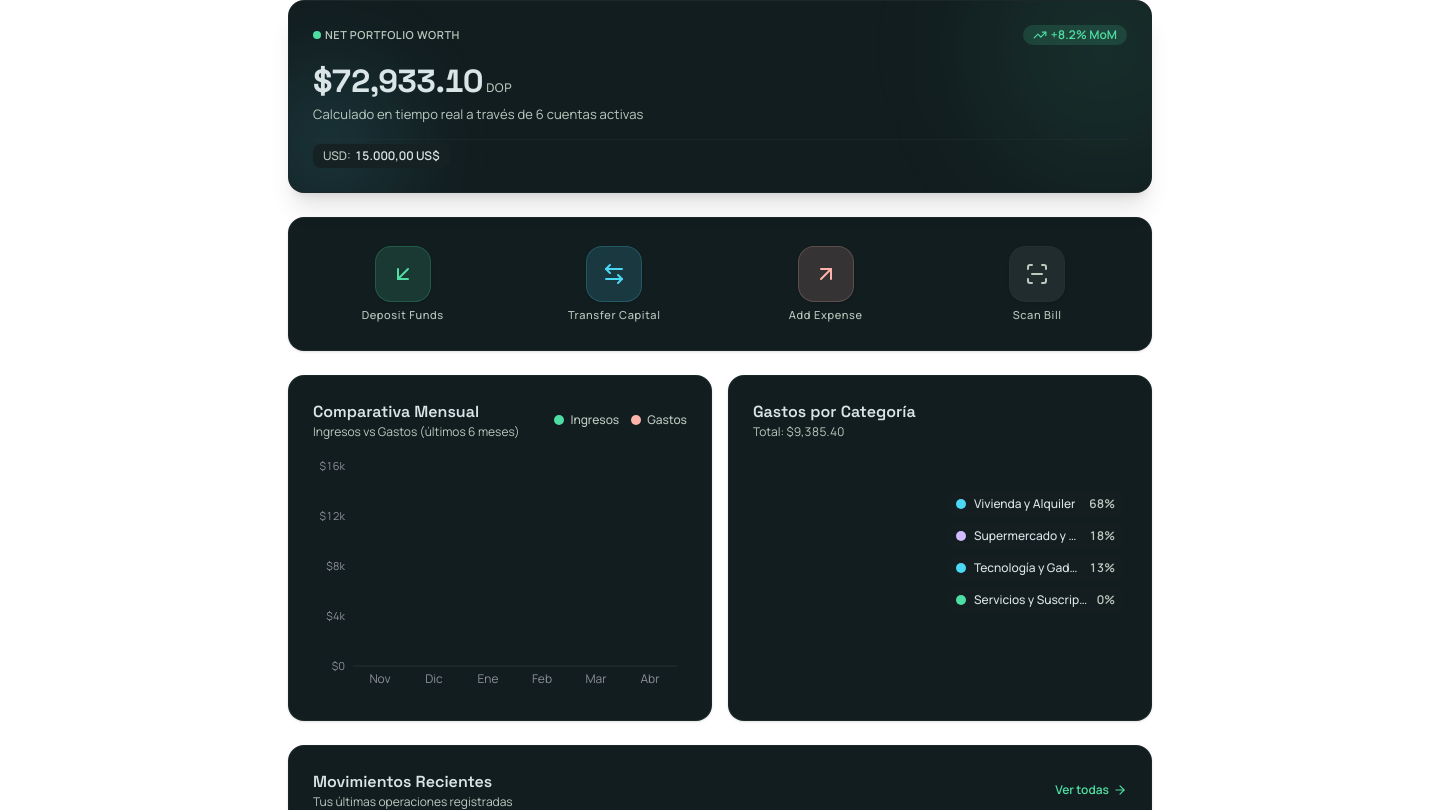
Test: DashboardPage Integration › opens TransactionFormModal when clicking Add Expense quick action
The width and height of the screenshot is (1440, 810).
Click the button "Add Expense" at (826, 284), box [728,242,924,326]
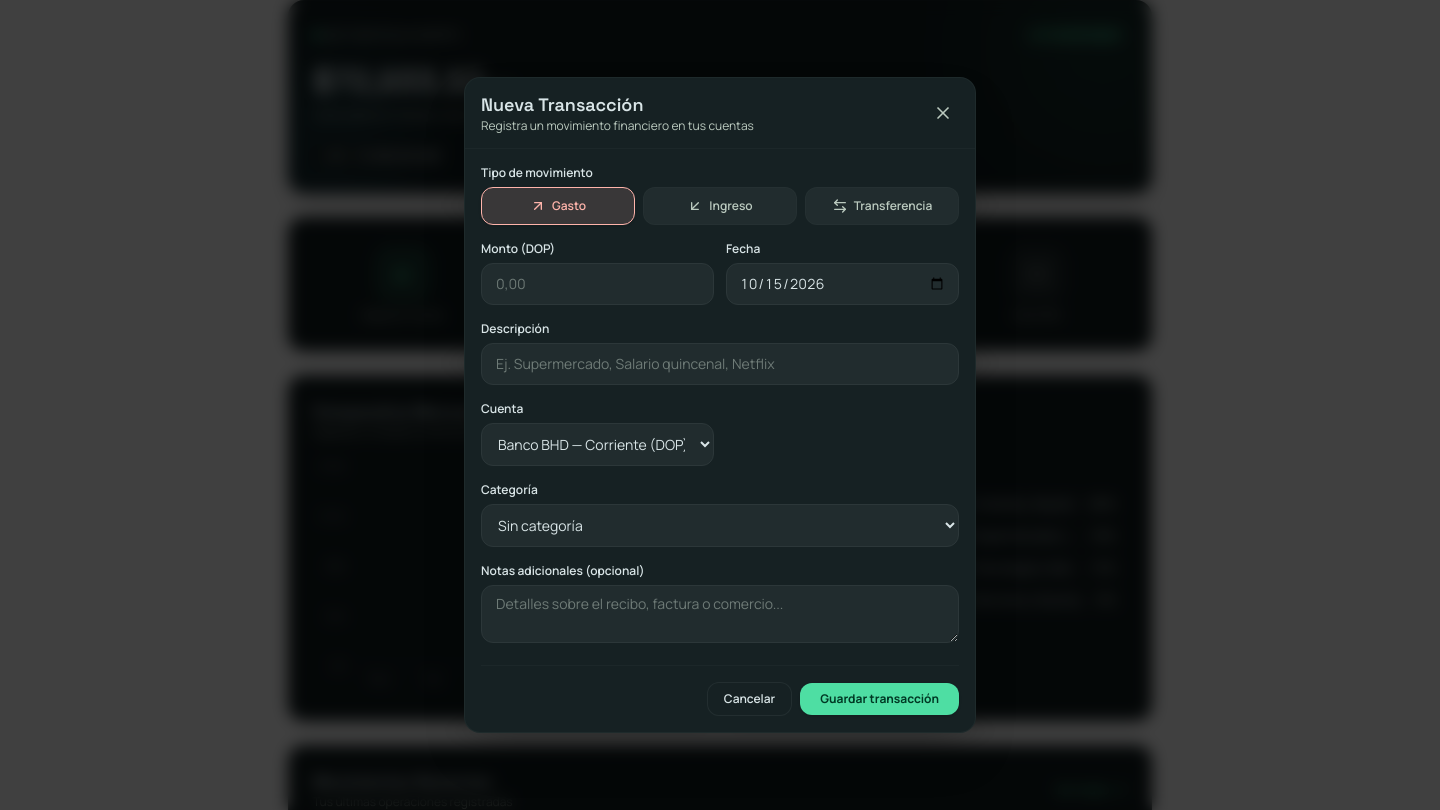
Expected: the heading "Nueva Transacción" is shown, [481,93,644,116]
